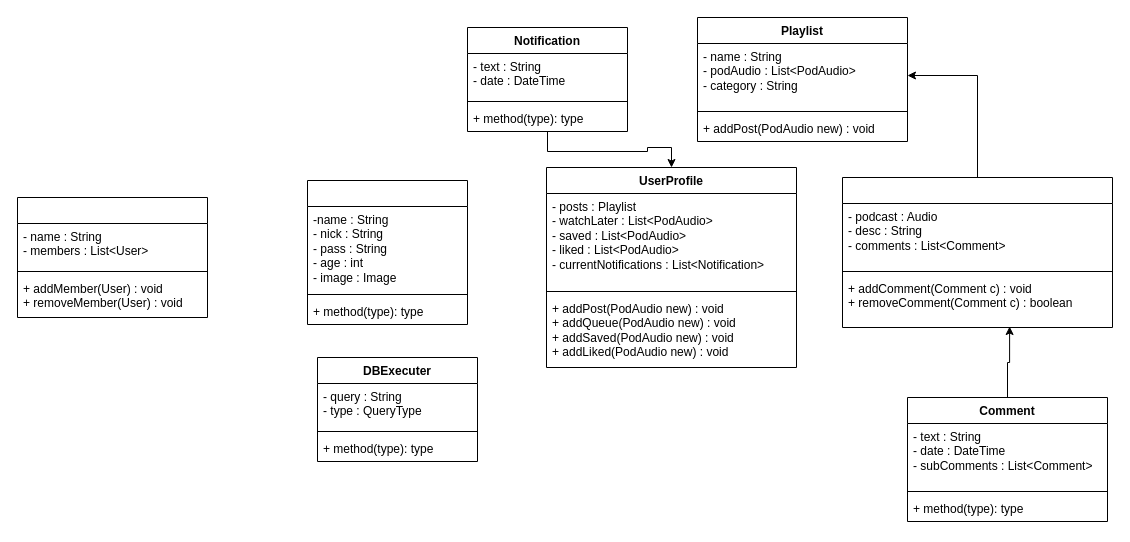
This 1130x542 diagram has some shape labels left out. Here are the shapes that lost their labels. From the top down, the box of each, then its label:
(16, 196, 208, 318): Community
(306, 180, 468, 324): User
(842, 176, 1112, 328): PodAudio
